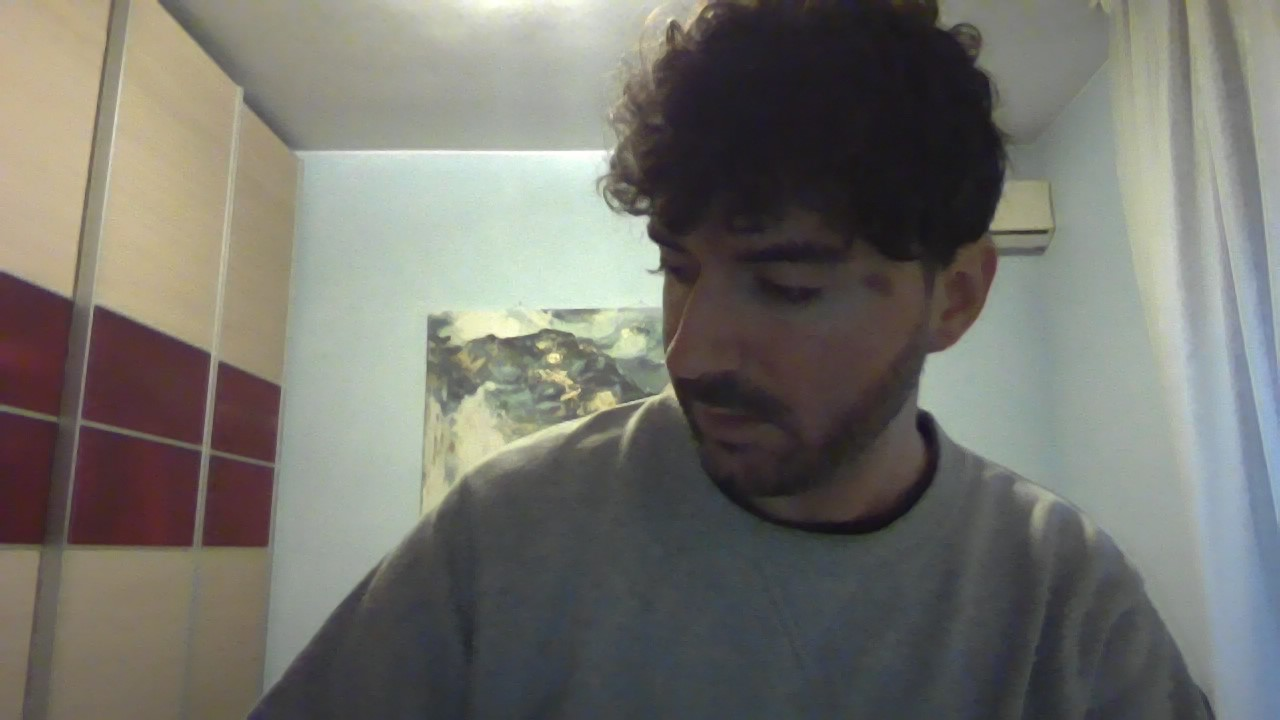NoGlasses: (622, 227, 913, 313)
